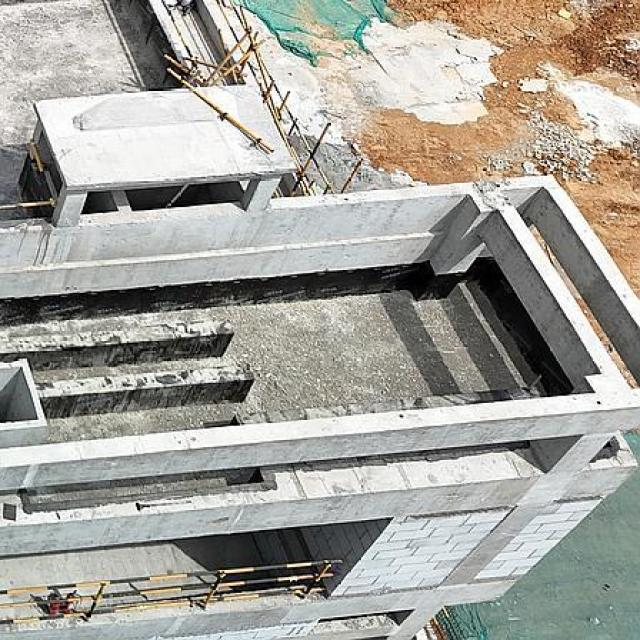edge_guardrail: (214, 0, 336, 197), (0, 558, 344, 625), (0, 141, 57, 210), (161, 0, 199, 70)
